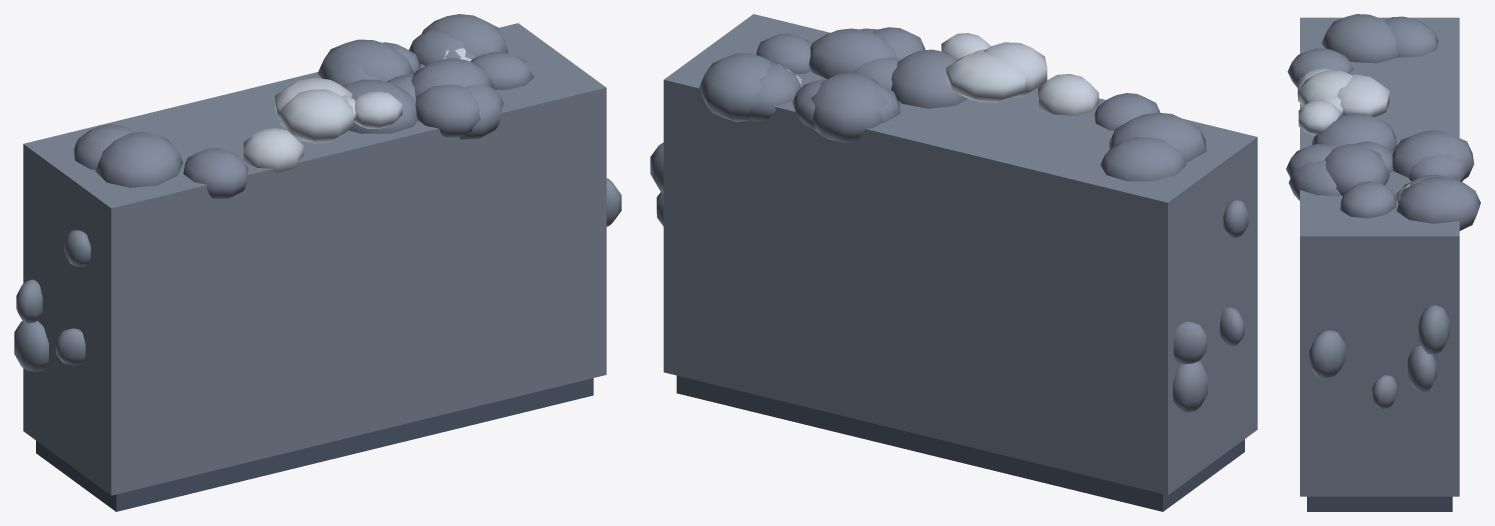
3 renders of one model, left to right at view 1: azimuth 30°, elevation 25°; view 2: azimuth 150°, elevation 25°; view 3: azimuth 270°, elevation 25°, orthographic. The views are drawn at different scales.
Parts seen in each view (by area): view 1: garden-hedge-leaf, garden-hedge-soil, garden-hedge-light; view 2: garden-hedge-leaf, garden-hedge-soil, garden-hedge-light; view 3: garden-hedge-leaf, garden-hedge-light, garden-hedge-soil.
Boxes of the visible parts, left/top/right/bottom form: garden-hedge-leaf: left=14, top=14, right=621, bottom=495; garden-hedge-soil: left=36, top=378, right=593, bottom=511; garden-hedge-light: left=243, top=48, right=471, bottom=172; garden-hedge-leaf: left=650, top=14, right=1257, bottom=495; garden-hedge-soil: left=676, top=375, right=1244, bottom=511; garden-hedge-light: left=778, top=33, right=1098, bottom=115; garden-hedge-leaf: left=1286, top=14, right=1480, bottom=496; garden-hedge-light: left=1297, top=68, right=1410, bottom=201; garden-hedge-soil: left=1307, top=496, right=1452, bottom=511.
Size of the model in its own units: 1.6 by 1 by 0.55.
